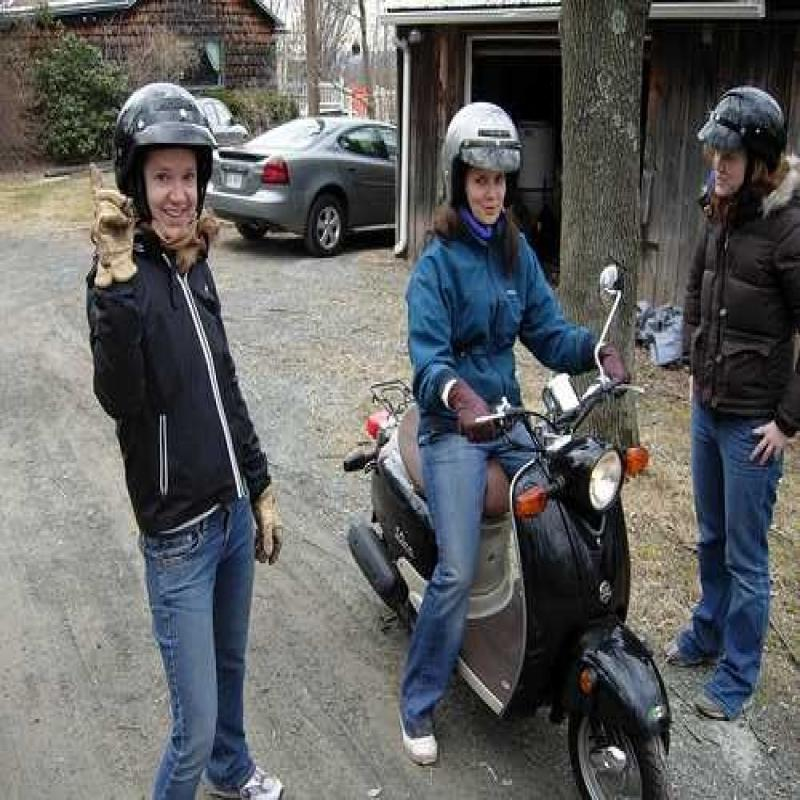bike: (376, 324, 659, 800)
